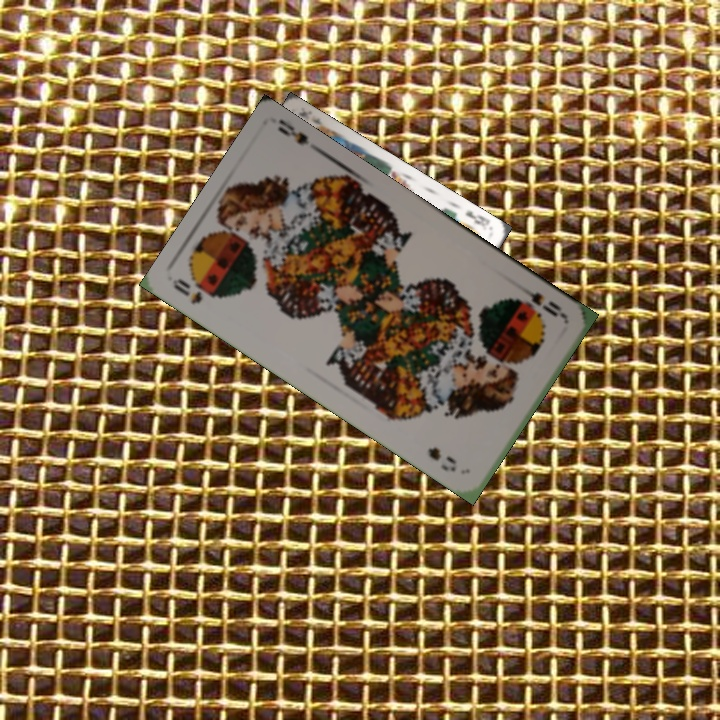EK: (461, 207, 492, 229)
SO: (514, 281, 567, 320), (169, 274, 205, 307)
